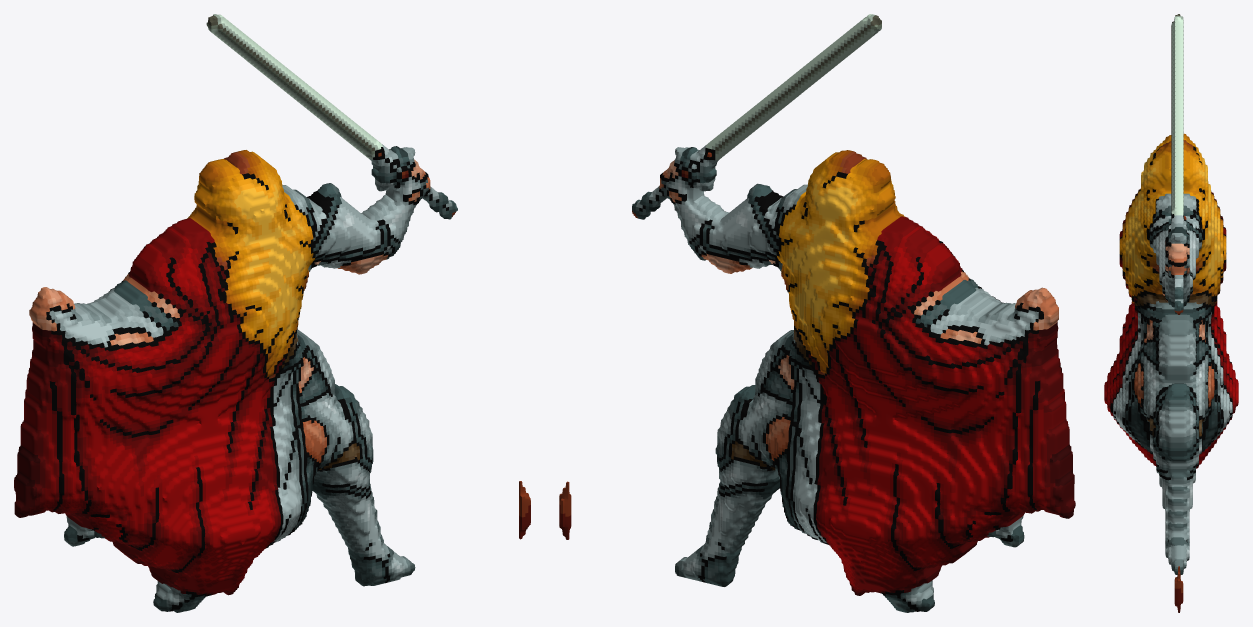
The model's file is Fight_018_2_02.obj.
3 renders of one model, left to right at view 1: azimuth 30°, elevation 25°; view 2: azimuth 150°, elevation 25°; view 3: azimuth 270°, elevation 25°, orthographic. The views are drawn at different scales.
Size of the model in its own units: 15.5 by 17.5 by 4.4.
1 material, 1 textured.
